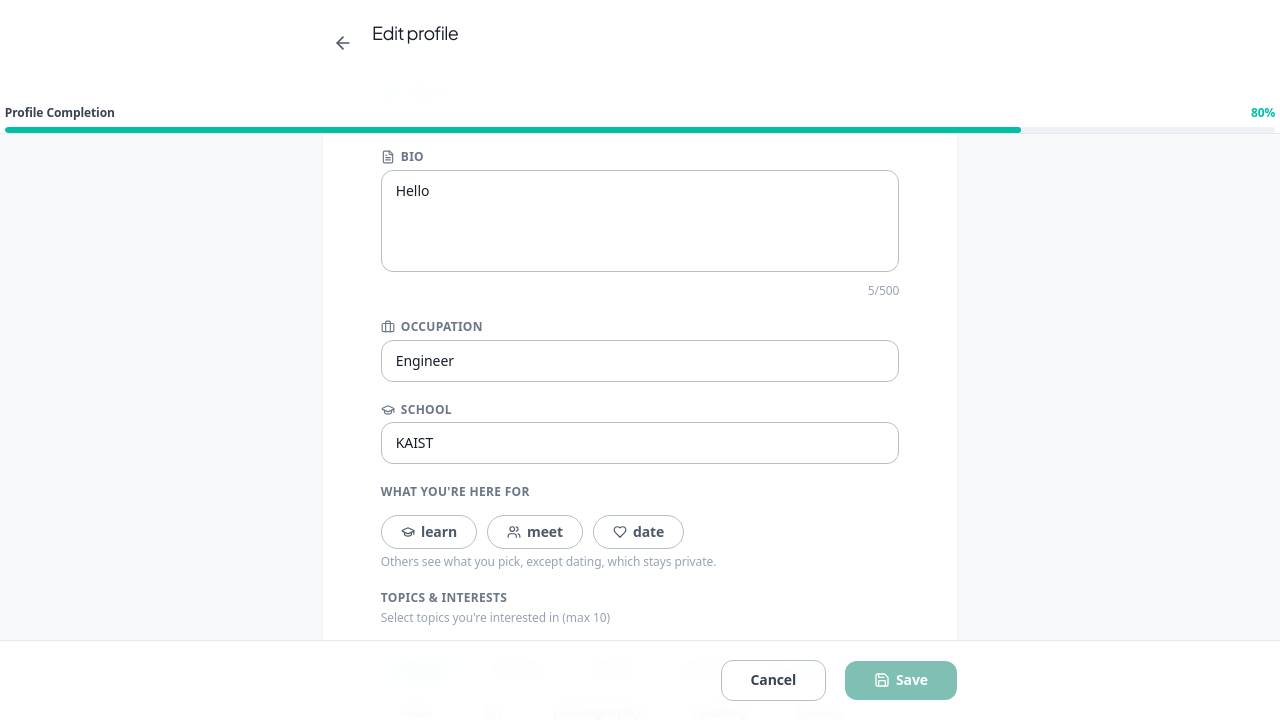
saving › keeps Save disabled until something actually changes
(page scrolled)
Expected: the button with test id "edit-save" is disabled, [845, 661, 957, 700]
Step 1. Replace the text in the field with test id "edit-occupation" with "Teacher" → (640, 360), box [381, 340, 899, 382]
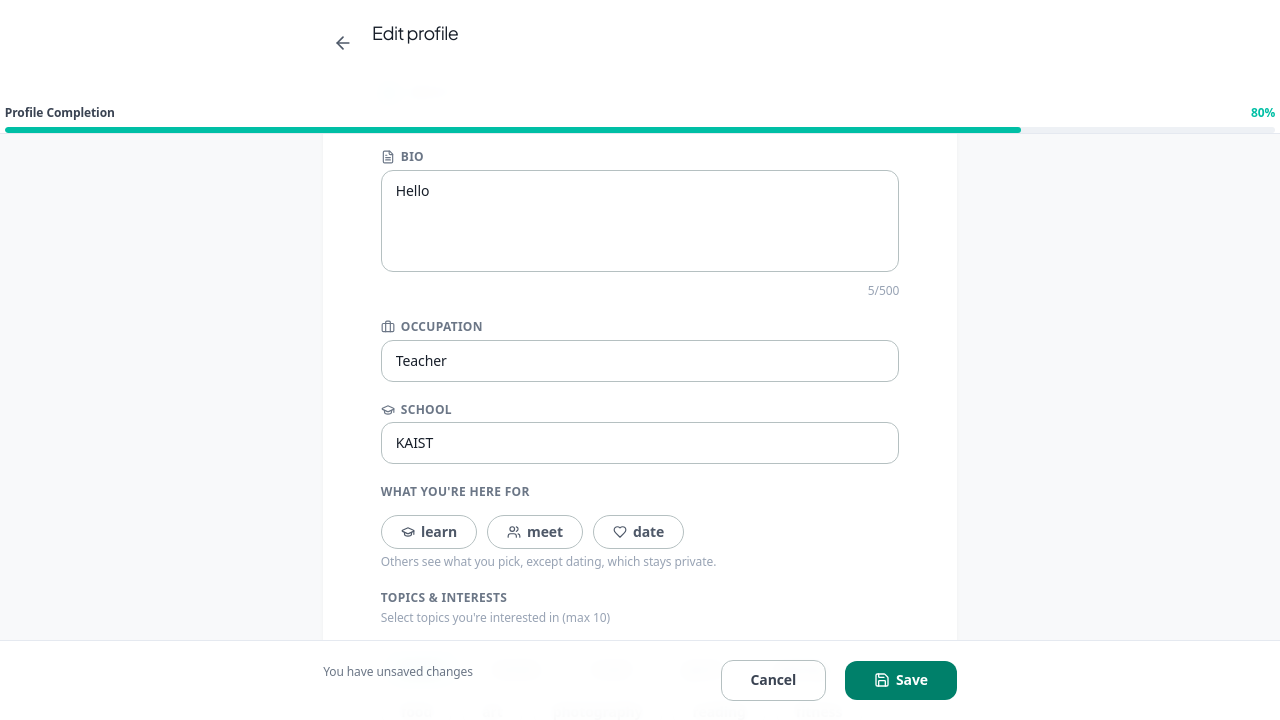
Expected: the button with test id "edit-save" is enabled, [845, 661, 957, 700]
